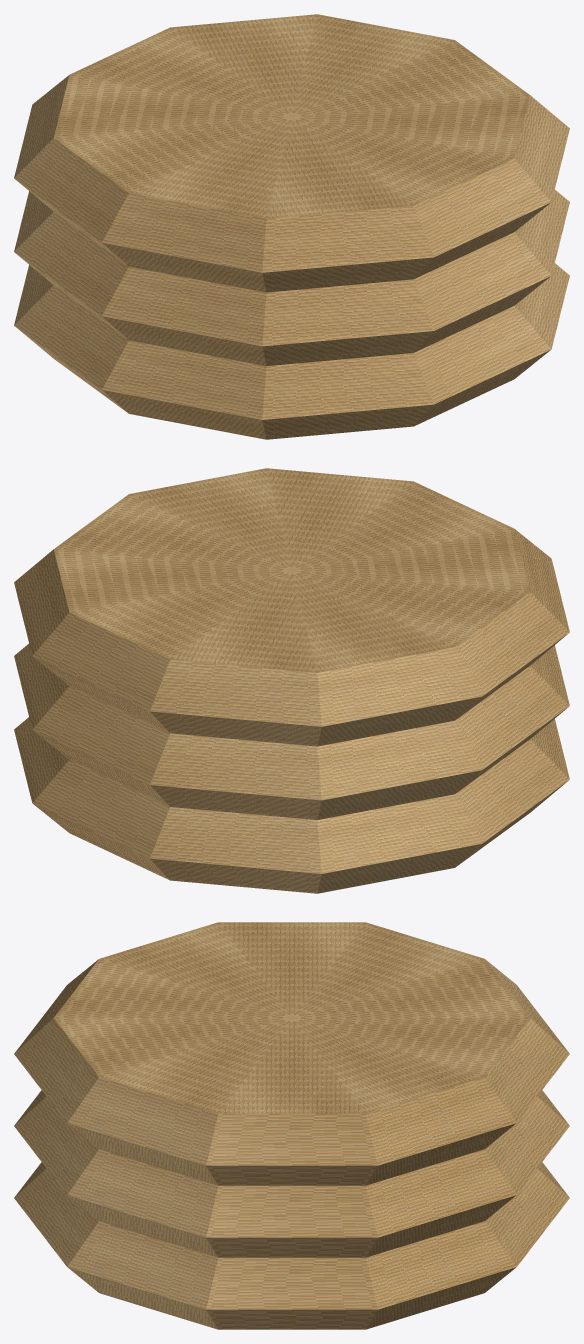
Rendered from corda.glb.
The picture shows the model from 3 angles, top to bottom: view 1: azimuth 30°, elevation 25°; view 2: azimuth 150°, elevation 25°; view 3: azimuth 270°, elevation 25°; orthographic projection. The views are drawn at different scales.
Visible parts, largest first — view 1: corda; view 2: corda; view 3: corda.
Boxes of the visible parts, box(x1,y1,x2,y2) form: corda: box(14, 14, 569, 439); corda: box(14, 468, 569, 893); corda: box(14, 922, 569, 1329).
Bounding box in the file's own units: 0.3994 × 0.18 × 0.42.
1 material, 1 textured.
